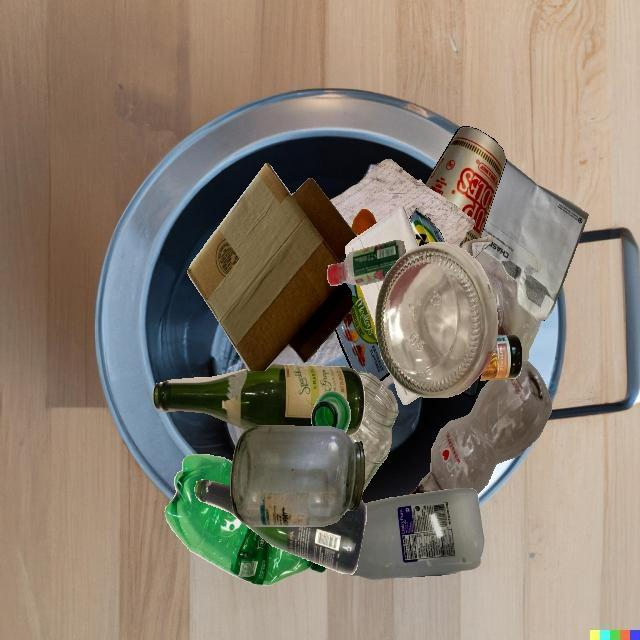biowaste: (351, 209, 377, 235)
cardboard: (187, 162, 357, 371)
glass: (375, 243, 498, 397), (153, 364, 364, 437), (230, 425, 365, 527), (245, 500, 366, 574), (349, 371, 399, 494), (480, 335, 522, 380), (311, 391, 350, 433)
paper: (480, 159, 589, 321), (329, 159, 493, 258), (361, 240, 404, 388)
plastic: (165, 454, 327, 585), (410, 360, 551, 495), (349, 488, 485, 580), (474, 250, 541, 361), (327, 240, 406, 286)
trash: (345, 247, 470, 389), (424, 126, 506, 243), (335, 283, 390, 381)
